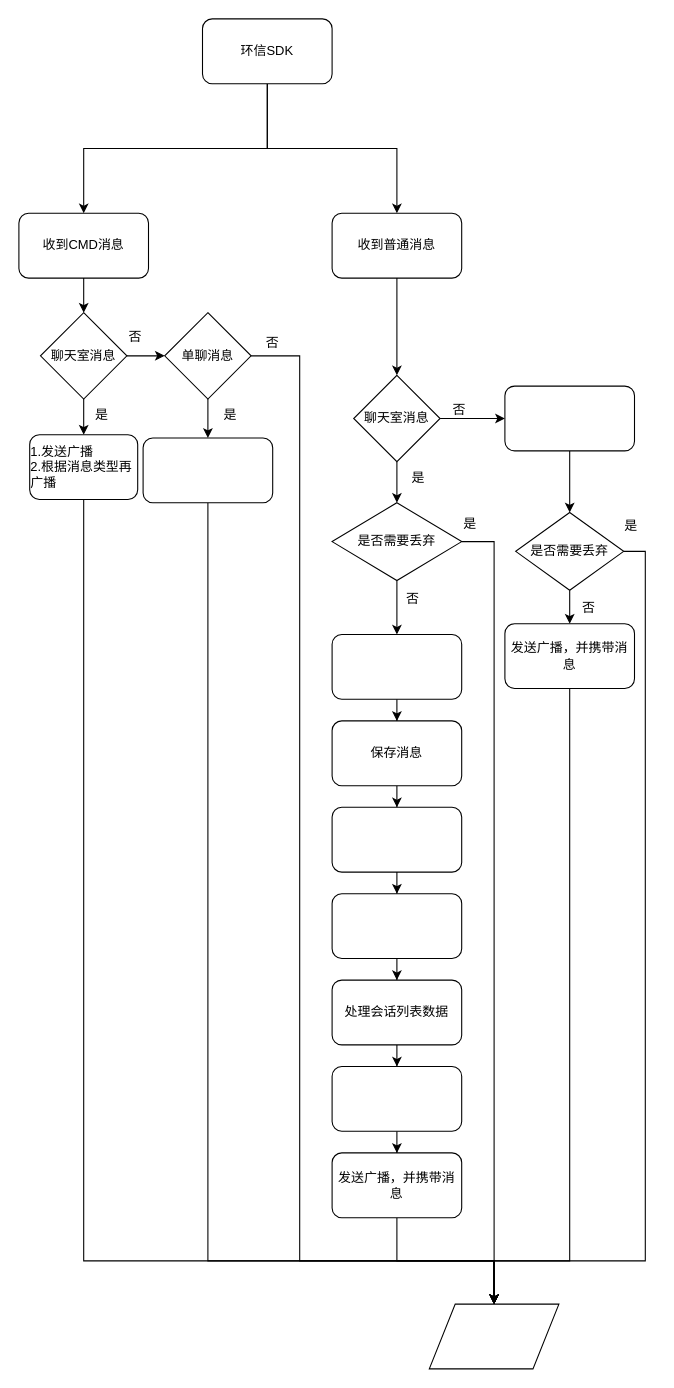
Image size: 674x1388. Some labels were removed from this diagram. The shapes that lost their labels are listed below. From the top down, each one's box as (x1, y1, x2, y2) in pixels, then its label:
(504, 385, 634, 451): 单聊/群消息
(142, 437, 273, 503): 根据CMD类型发送广播或直接处理
(331, 633, 462, 699): 循环等待数据库加载完成
(331, 806, 462, 872): 处理震动或响铃
(331, 893, 462, 959): 处理通知中心消息
(331, 1065, 462, 1131): 处理其他类型的消息
(428, 1303, 559, 1369): 结束
